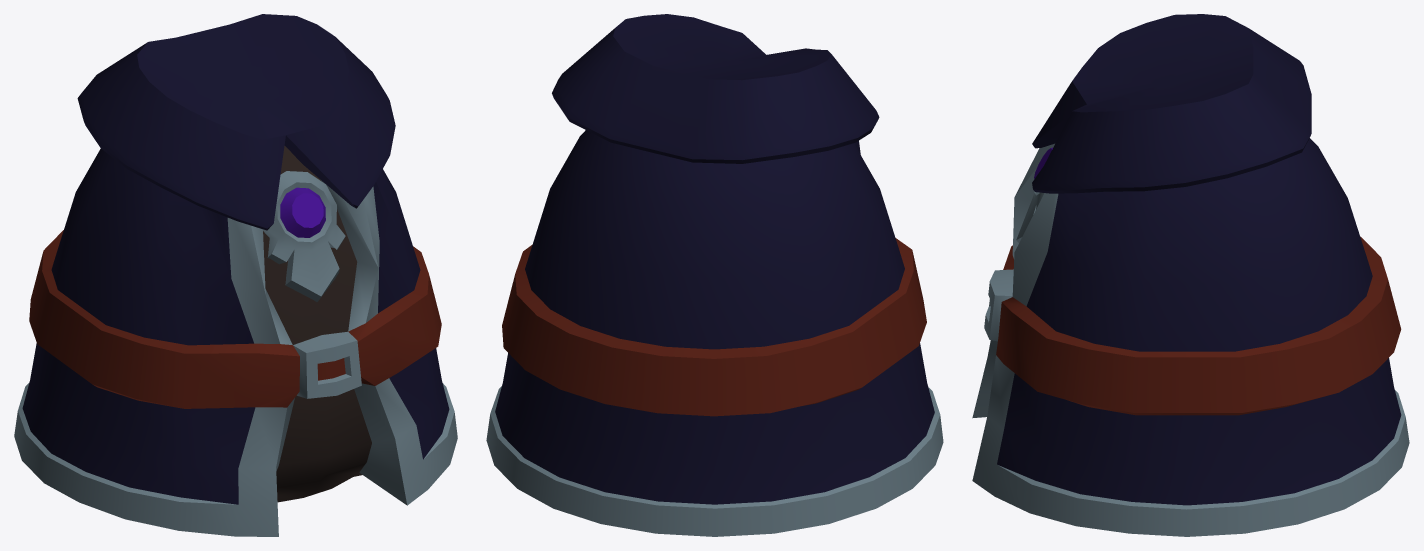
Rendered from body_mage.fbx.
3 renders of one model, left to right at view 1: azimuth 30°, elevation 25°; view 2: azimuth 150°, elevation 25°; view 3: azimuth 270°, elevation 25°, orthographic. The views are drawn at different scales.
Visible parts, largest first — view 1: body_mage; view 2: body_mage; view 3: body_mage.
Boxes of the visible parts, x1,y1,x2,y2 form: body_mage: [14, 14, 457, 536]; body_mage: [486, 14, 943, 536]; body_mage: [972, 14, 1409, 536].
Bounding box in the file's own units: 81.04 × 80.39 × 79.65.
